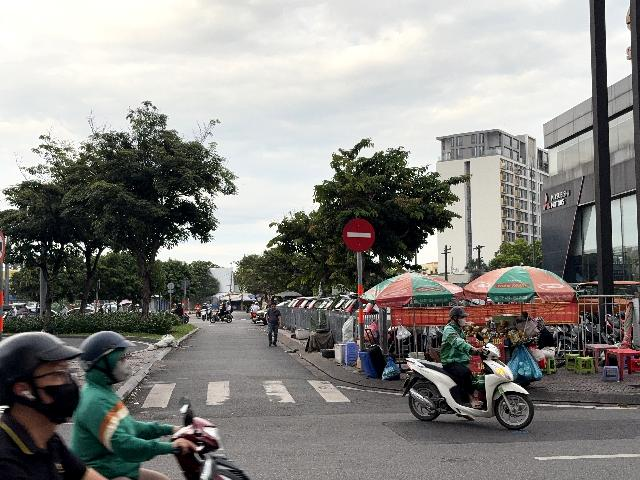cam-di-nguoc-chieu: (342, 218, 375, 252)
